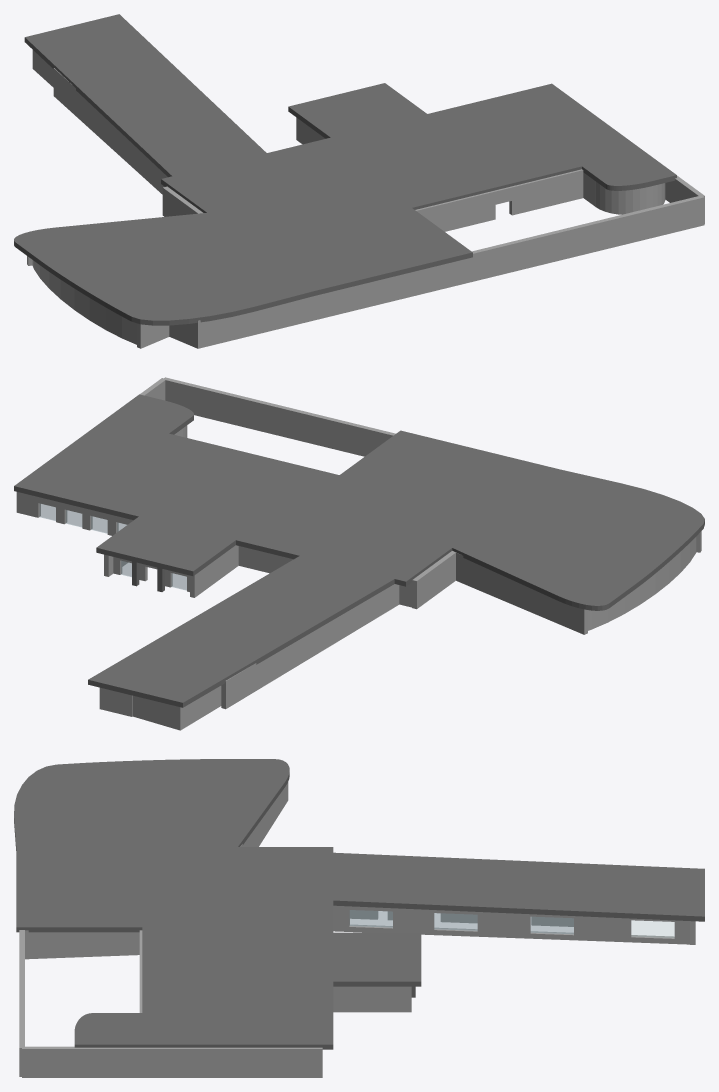
File: han3.fbx
3 renders of one model, top to bottom at view 1: azimuth 30°, elevation 25°; view 2: azimuth 150°, elevation 25°; view 3: azimuth 270°, elevation 25°, orthographic. The views are drawn at different scales.
Parts seen in each view (by area): view 1: Cube, Cube.003; view 2: Cube, Cube.003, Cube.010; view 3: Cube, Cube.003, Cube.005, Cube.004, Cube.006, Cube.007.
Part boxes in pixels (x1=…): Cube: x1=14, y1=14, x2=676, y2=325; Cube.003: x1=27, y1=50, x2=704, y2=348; Cube: x1=14, y1=394, x2=704, y2=707; Cube.003: x1=16, y1=377, x2=701, y2=730; Cube.010: x1=39, y1=503, x2=126, y2=533; Cube: x1=14, y1=759, x2=704, y2=1049; Cube.003: x1=19, y1=782, x2=695, y2=1077; Cube.005: x1=434, y1=913, x2=477, y2=930; Cube.004: x1=349, y1=910, x2=392, y2=927; Cube.006: x1=530, y1=916, x2=573, y2=934; Cube.007: x1=632, y1=921, x2=673, y2=937.
Size of the model in its own units: 23913 by 1265 by 24340.
